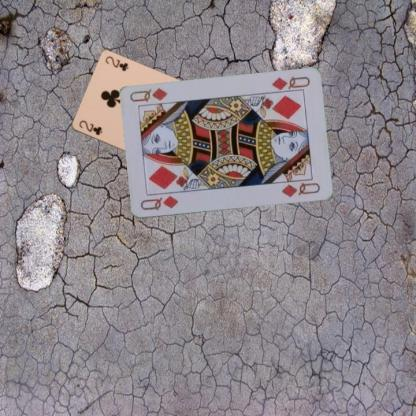2c: (76, 118, 103, 136)
Qd: (267, 74, 311, 95), (138, 193, 180, 212)
